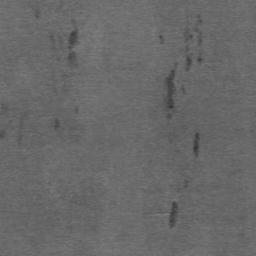Iron scale compression: (166, 63, 178, 109), (194, 14, 203, 62), (68, 21, 78, 61), (184, 27, 193, 71), (169, 202, 178, 228), (193, 134, 199, 157), (53, 118, 59, 131)
